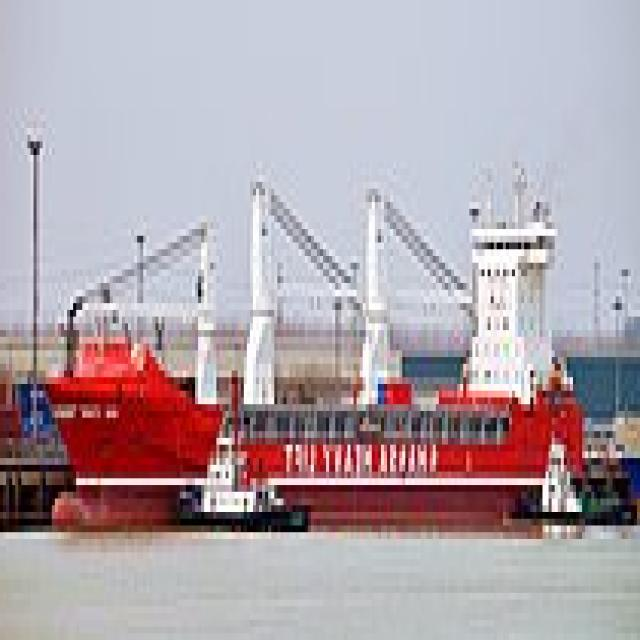Cargo: (46, 142, 588, 526)
